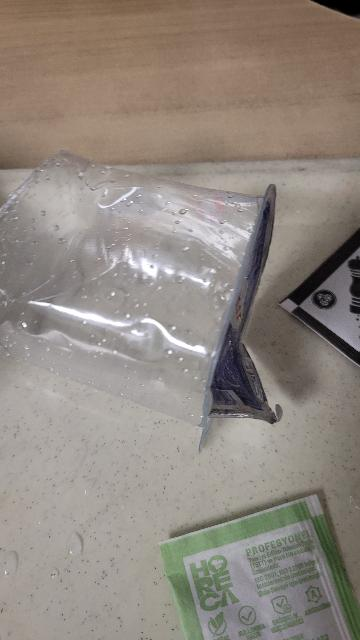Kagit: (155, 487, 360, 640), (278, 222, 360, 372)
Plastik: (0, 144, 284, 452)
